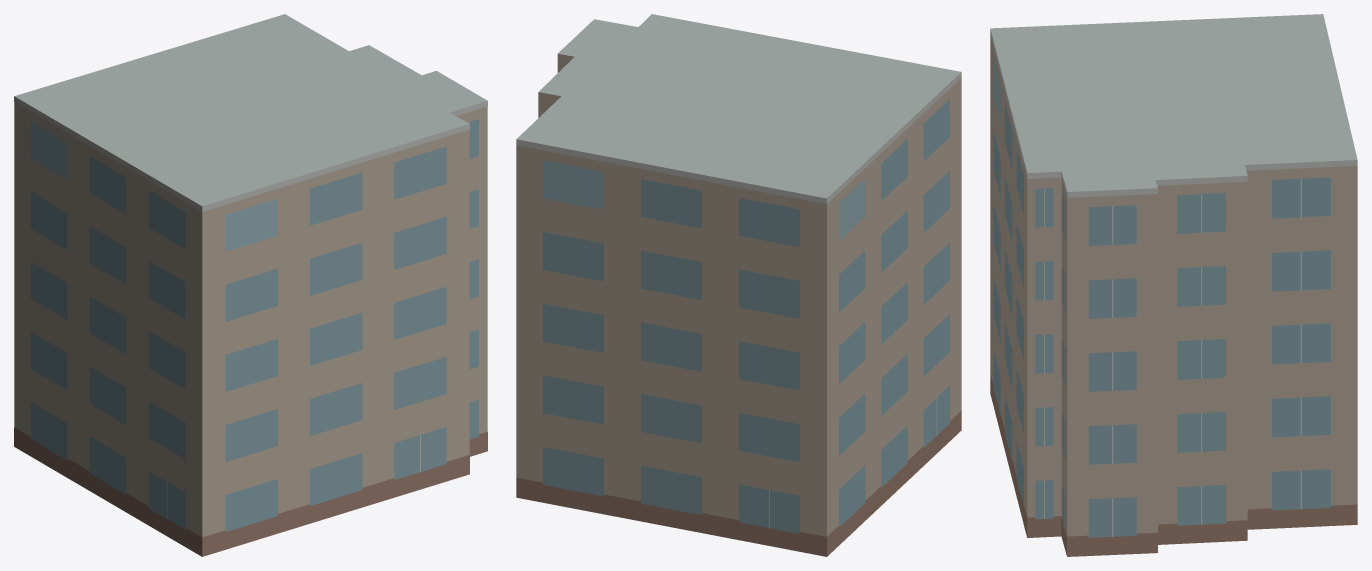
Rendered from survey-upis-32963205.glb.
The picture shows the model from 3 angles, left to right: view 1: azimuth 30°, elevation 25°; view 2: azimuth 150°, elevation 25°; view 3: azimuth 270°, elevation 25°; orthographic projection. The views are drawn at different scales.
Parts seen in each view (by area): view 1: survey-upis-32963205.tmp; view 2: survey-upis-32963205.tmp; view 3: survey-upis-32963205.tmp.
Boxes of the visible parts, x1,y1,x2,y2 form: survey-upis-32963205.tmp: (14,14,487,556); survey-upis-32963205.tmp: (516,14,961,556); survey-upis-32963205.tmp: (990,14,1357,556).
Bounding box in the file's own units: 15.97 × 15.25 × 13.93.
